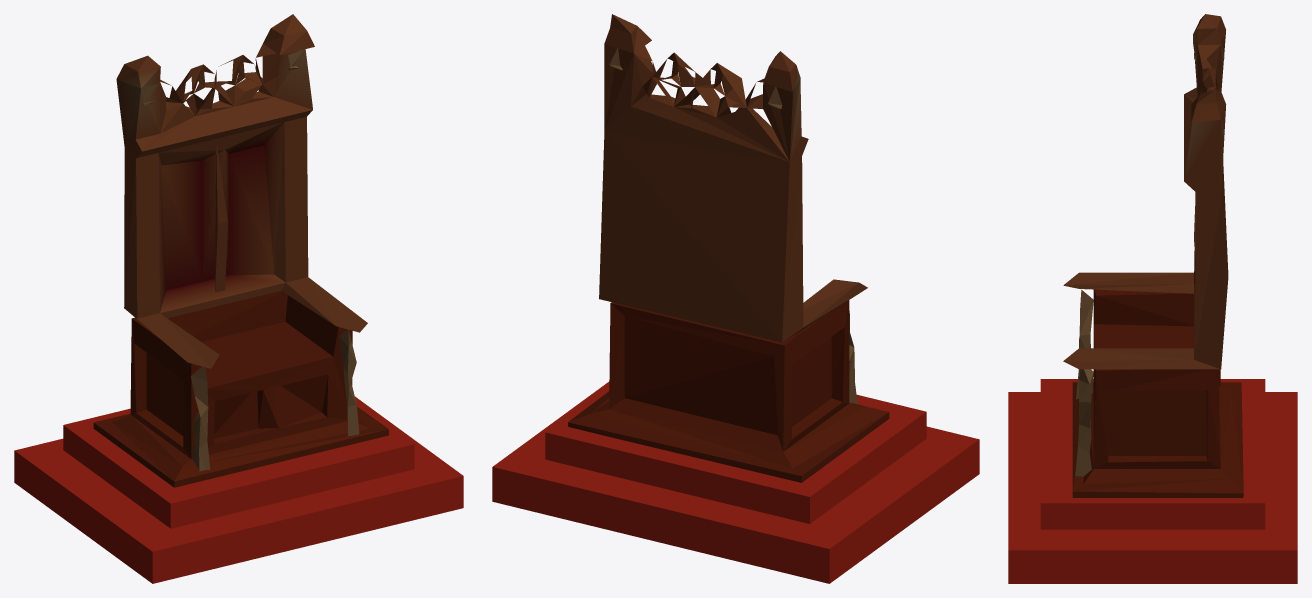
File: kings-throne.lod2.glb
3 views of the same model, side by side, from view 1: azimuth 30°, elevation 25°; view 2: azimuth 150°, elevation 25°; view 3: azimuth 270°, elevation 25° (orthographic). The views are drawn at different scales.
Visible parts, largest first — view 1: chair_base_UV1304_0; view 2: chair_base_UV1304_0; view 3: chair_base_UV1304_0.
Part boxes in pixels (x1=…): chair_base_UV1304_0: x1=14, y1=14, x2=463, y2=583; chair_base_UV1304_0: x1=492, y1=14, x2=979, y2=583; chair_base_UV1304_0: x1=1008, y1=14, x2=1297, y2=583.
Size of the model in its own units: 1.87 by 2.53 by 1.44.
